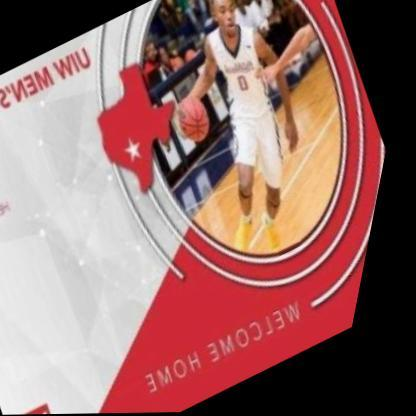basketball: (160, 79, 241, 153)
